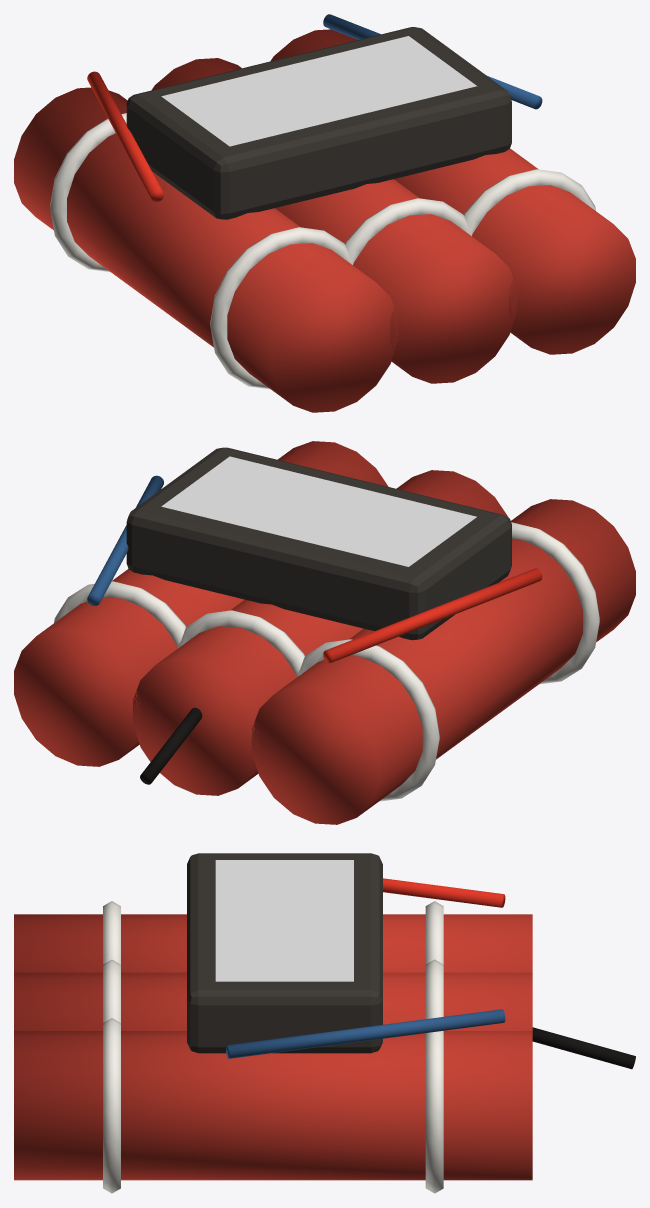
The model's file is kc_dinamite.glb.
3 views of the same model, one above another, from view 1: azimuth 30°, elevation 25°; view 2: azimuth 150°, elevation 25°; view 3: azimuth 270°, elevation 25° (orthographic).
Parts seen in each view (by area): view 1: Cylinder, Cube, Cylinder.001, Cylinder.002, screen, Torus.002, Torus.001, Torus.006, Torus.004, Cylinder.004, Cylinder.005; view 2: Cylinder, Cube, Cylinder.002, Cylinder.001, screen, Torus.001, Torus.002, Cylinder.004, Torus.003, Torus.005, Cylinder.005, Cylinder.003; view 3: Cylinder.002, Cube, Cylinder, screen, Cylinder.001, Cylinder.005, Torus.006, Torus.005, Cylinder.004, Cylinder.003, Torus.001, Torus.003 (+2 smaller).
Part boxes in pixels (bbox=[...]): Cylinder: bbox=[14, 87, 398, 412]; Cube: bbox=[126, 27, 511, 219]; Cylinder.001: bbox=[152, 58, 516, 383]; Cylinder.002: bbox=[270, 29, 635, 354]; screen: bbox=[161, 36, 476, 146]; Torus.002: bbox=[210, 227, 353, 389]; Torus.001: bbox=[50, 113, 126, 272]; Torus.006: bbox=[464, 169, 595, 235]; Torus.004: bbox=[345, 198, 472, 264]; Cylinder.004: bbox=[87, 71, 163, 201]; Cylinder.005: bbox=[323, 14, 542, 109]; Cylinder: bbox=[251, 499, 635, 824]; Cube: bbox=[126, 447, 511, 640]; Cylinder.002: bbox=[14, 441, 388, 766]; Cylinder.001: bbox=[133, 470, 508, 795]; screen: bbox=[161, 456, 476, 566]; Torus.001: bbox=[297, 639, 439, 801]; Torus.002: bbox=[511, 522, 599, 684]; Cylinder.004: bbox=[323, 568, 542, 663]; Torus.003: bbox=[177, 610, 304, 676]; Torus.005: bbox=[54, 581, 186, 645]; Cylinder.005: bbox=[87, 475, 163, 605]; Cylinder.003: bbox=[140, 707, 202, 784]; Cylinder.002: bbox=[14, 1031, 532, 1180]; Cube: bbox=[187, 853, 382, 1053]; Cylinder: bbox=[14, 914, 532, 972]; screen: bbox=[215, 860, 353, 981]; Cylinder.001: bbox=[14, 972, 532, 1030]; Cylinder.005: bbox=[226, 1009, 505, 1058]; Torus.006: bbox=[103, 1018, 120, 1193]; Torus.005: bbox=[425, 1031, 443, 1193]; Cylinder.004: bbox=[383, 878, 505, 907]; Cylinder.003: bbox=[532, 1027, 635, 1069]; Torus.001: bbox=[425, 901, 443, 964]; Torus.003: bbox=[425, 959, 443, 1018].
Bounding box in the file's own units: 0.7907 × 0.3927 × 1.08.
